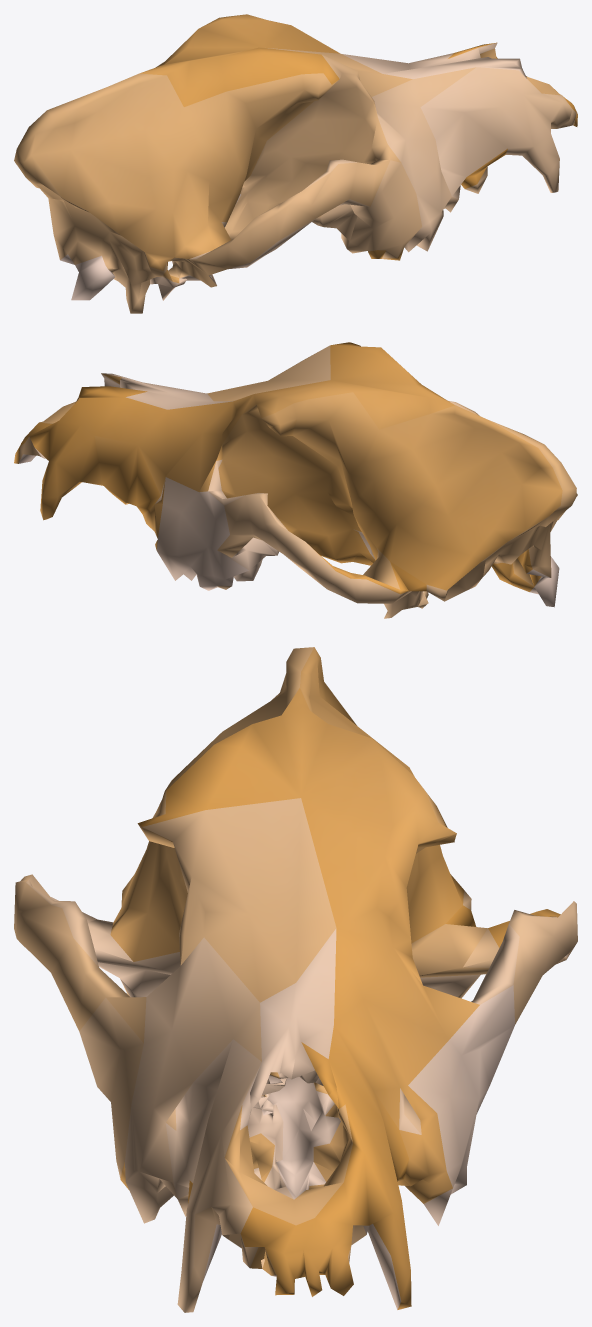
File: Fossil4.fbx
3 renders of one model, top to bottom at view 1: azimuth 30°, elevation 25°; view 2: azimuth 150°, elevation 25°; view 3: azimuth 270°, elevation 25°, orthographic. The views are drawn at different scales.
Visible parts, largest first — view 1: wk2kbfj_LOD0_TIER3_000; view 2: wk2kbfj_LOD0_TIER3_000; view 3: wk2kbfj_LOD0_TIER3_000.
Boxes of the visible parts, left/top/right/bottom form: wk2kbfj_LOD0_TIER3_000: left=14, top=14, right=577, bottom=313; wk2kbfj_LOD0_TIER3_000: left=14, top=342, right=577, bottom=618; wk2kbfj_LOD0_TIER3_000: left=14, top=647, right=577, bottom=1312.
Bounding box in the file's own units: 21.24 × 8.12 × 11.2.
